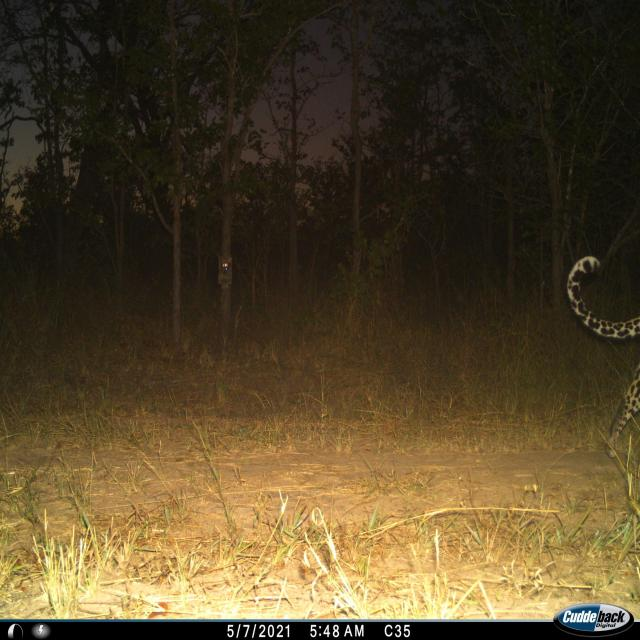Leopard: (563, 252, 638, 458)
